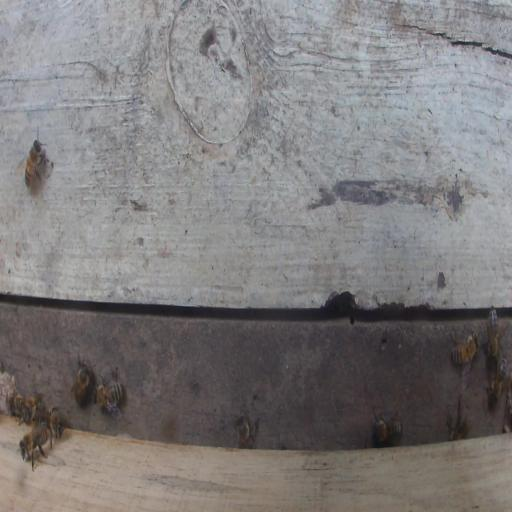nonpollenbee: (450, 331, 480, 379), (18, 426, 48, 473), (95, 375, 125, 419), (373, 411, 403, 445), (487, 356, 508, 403), (234, 411, 258, 449), (447, 395, 466, 440), (24, 140, 41, 186), (486, 304, 499, 360), (75, 364, 91, 407), (23, 396, 46, 424), (36, 414, 62, 437), (503, 385, 512, 430), (10, 397, 27, 413)
